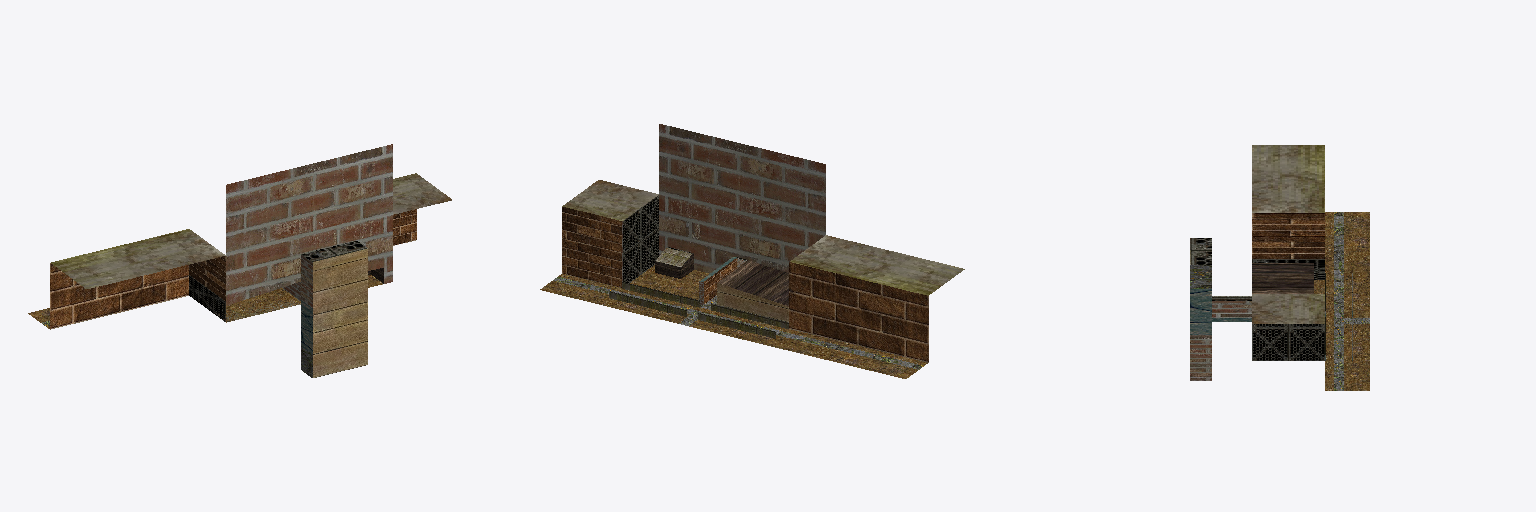
3 renders of one model, left to right at view 1: azimuth 30°, elevation 25°; view 2: azimuth 150°, elevation 25°; view 3: azimuth 270°, elevation 25°, orthographic.
Parts seen in each view (by area): view 1: Plane; view 2: Plane; view 3: Plane.
Boxes of the visible parts, x1,y1,x2,y2 form: Plane: [28, 144, 451, 377]; Plane: [540, 124, 964, 378]; Plane: [1190, 145, 1369, 390].
Bounding box in the file's own units: 57.18 × 27.5 × 24.41.
1 materials, 1 textured.